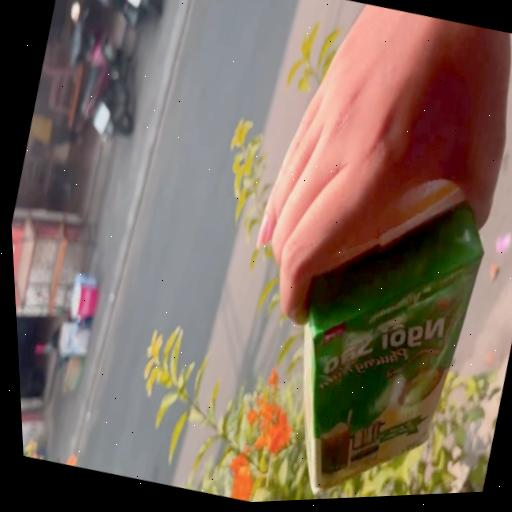ly_giay: (304, 204, 484, 492)
